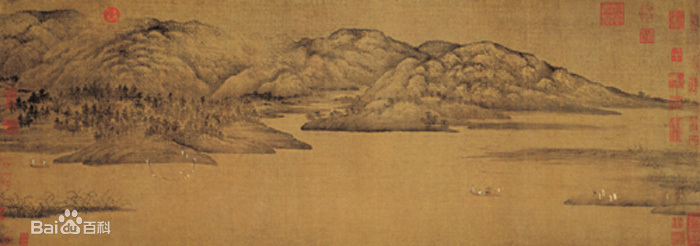boat: (468, 183, 506, 199), (29, 157, 50, 169)
man: (608, 190, 618, 204), (598, 187, 607, 200), (471, 186, 475, 194), (477, 189, 482, 195)
range: (2, 12, 536, 134)
river: (161, 151, 609, 246)
